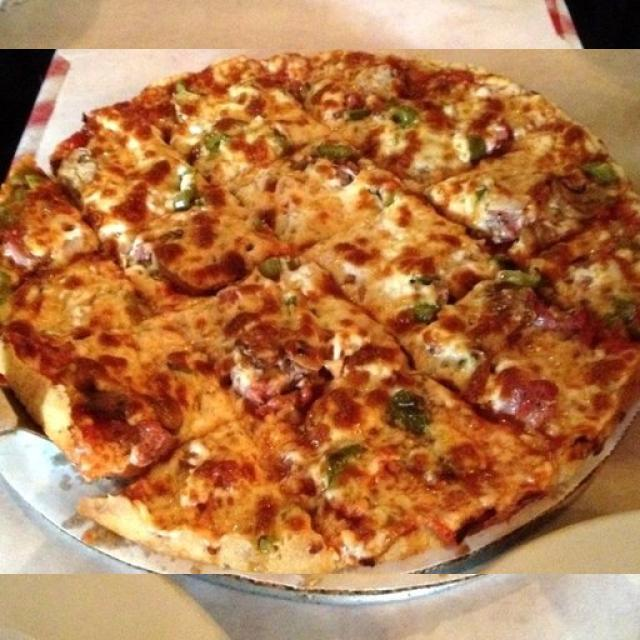olive: (212, 391, 251, 436), (276, 448, 318, 489), (100, 267, 139, 289), (284, 143, 326, 160), (23, 162, 54, 183), (198, 305, 230, 324), (357, 259, 386, 279), (224, 105, 249, 128), (364, 536, 383, 557), (446, 189, 464, 211), (415, 132, 437, 148)
pizza: (0, 49, 640, 574)
